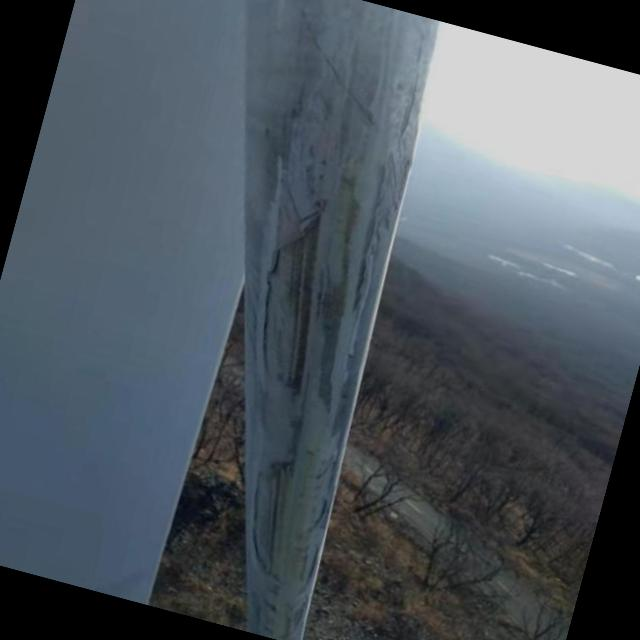corrosion: (174, 2, 463, 600)
